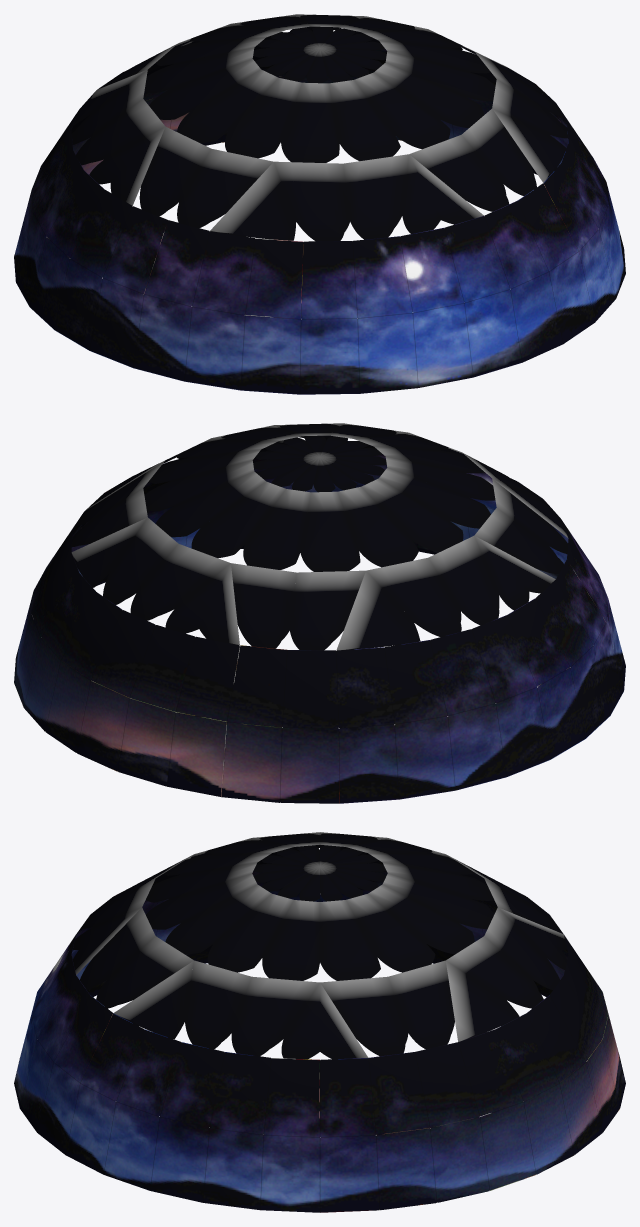
3 views of the same model, one above another, from view 1: azimuth 30°, elevation 25°; view 2: azimuth 150°, elevation 25°; view 3: azimuth 270°, elevation 25° (orthographic).
Parts seen in each view (by area): view 1: T1L9M006_29; view 2: T1L9M006_29; view 3: T1L9M006_29.
Boxes of the visible parts, left/top/right/bottom form: T1L9M006_29: left=14, top=14, right=625, bottom=394; T1L9M006_29: left=14, top=423, right=625, bottom=803; T1L9M006_29: left=14, top=832, right=625, bottom=1212.
Bounding box in the file's own units: 4.09 × 1.6 × 4.09.
